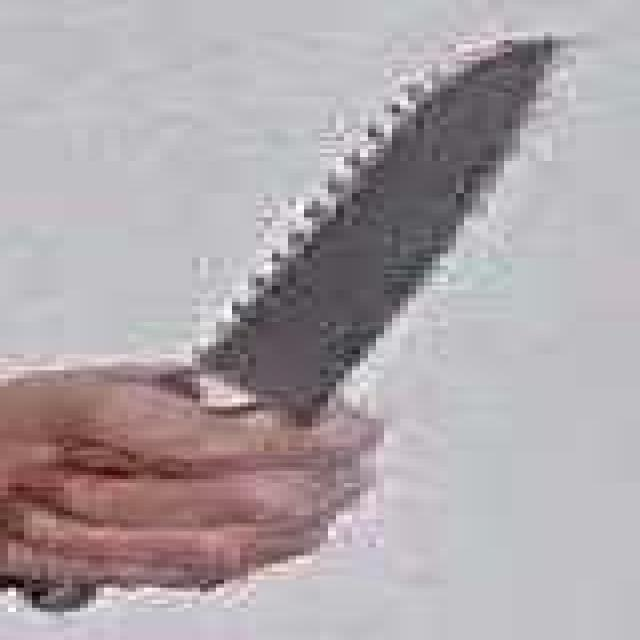Knife: (78, 4, 619, 592)
